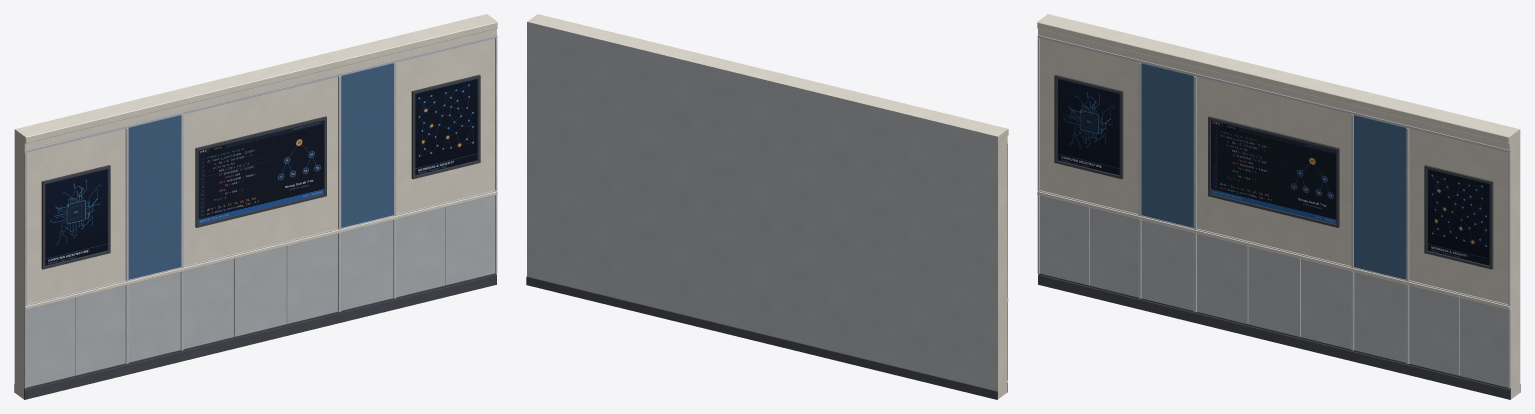
File: CS_Lab_Wall.obj
3 views of the same model, side by side, from view 1: azimuth 30°, elevation 25°; view 2: azimuth 150°, elevation 25°; view 3: azimuth 330°, elevation 25° (orthographic).
Visible parts, largest first — view 1: CS_Lab_Wall; view 2: CS_Lab_Wall; view 3: CS_Lab_Wall.
Part boxes in pixels (bbox=[...]): CS_Lab_Wall: bbox=[14, 14, 497, 399]; CS_Lab_Wall: bbox=[526, 14, 1008, 399]; CS_Lab_Wall: bbox=[1037, 14, 1520, 399].
Bounding box in the file's own units: 6 × 3.2 × 0.256.
Materials: 8 (8 with a texture image).
